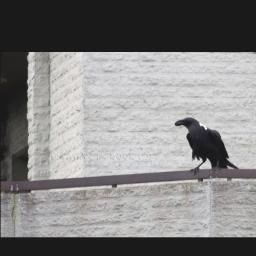Crow: (173, 116, 241, 181)
